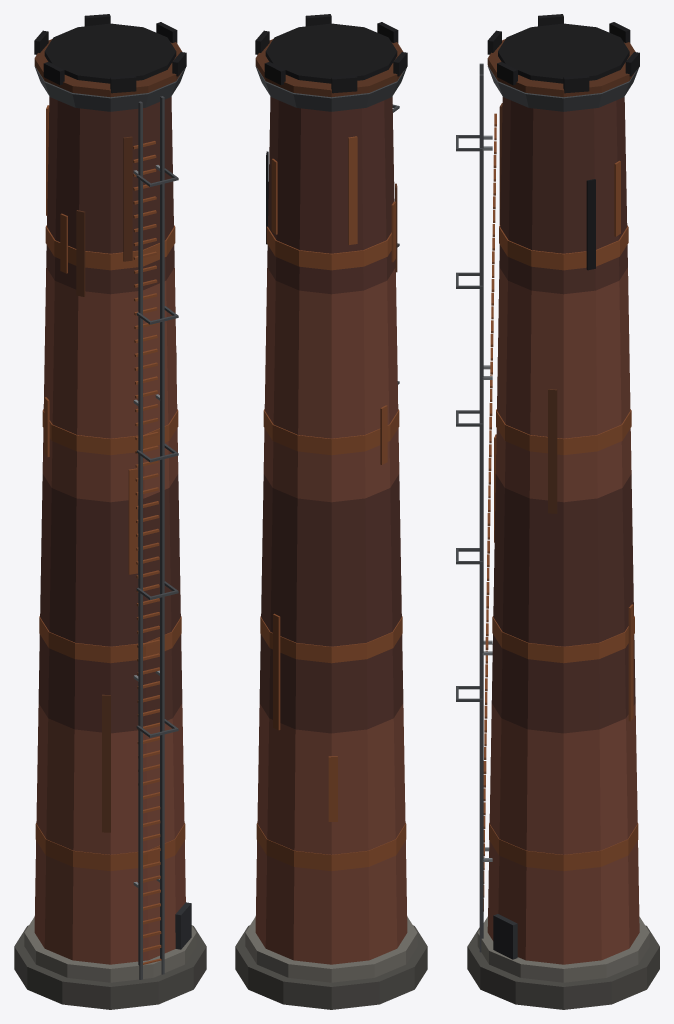
File: lmk_factory_stack.fbx
The picture shows the model from 3 angles, left to right: view 1: azimuth 30°, elevation 25°; view 2: azimuth 150°, elevation 25°; view 3: azimuth 270°, elevation 25°; orthographic projection.
Parts seen in each view (by area): view 1: lmk_factory_stack; view 2: lmk_factory_stack; view 3: lmk_factory_stack.
Part boxes in pixels (x1=…): lmk_factory_stack: x1=14, y1=14, x2=206, y2=1009; lmk_factory_stack: x1=235, y1=14, x2=427, y2=1009; lmk_factory_stack: x1=456, y1=14, x2=659, y2=1009.
Size of the model in its own units: 3.8 by 20.1 by 4.02.
